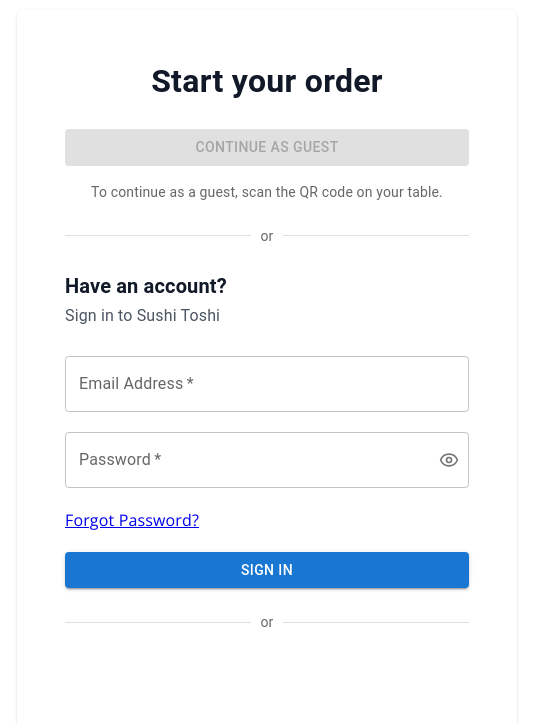
Test case: LoginForm › Form Submission › shows an error when the response has no access token
Type "test@example.com" into the field labelled "Email Address *" at x=267, y=384, box [65, 356, 469, 412]
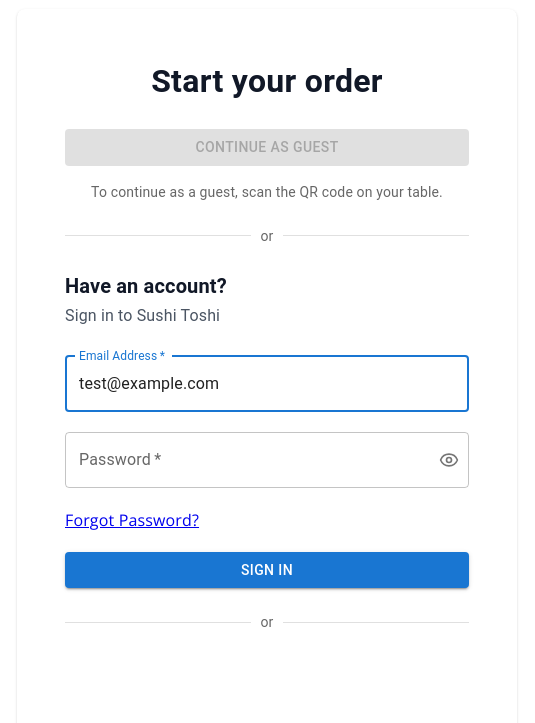
Type "password123" into the password field labelled "Password *" at x=244, y=460, box [65, 432, 423, 488]
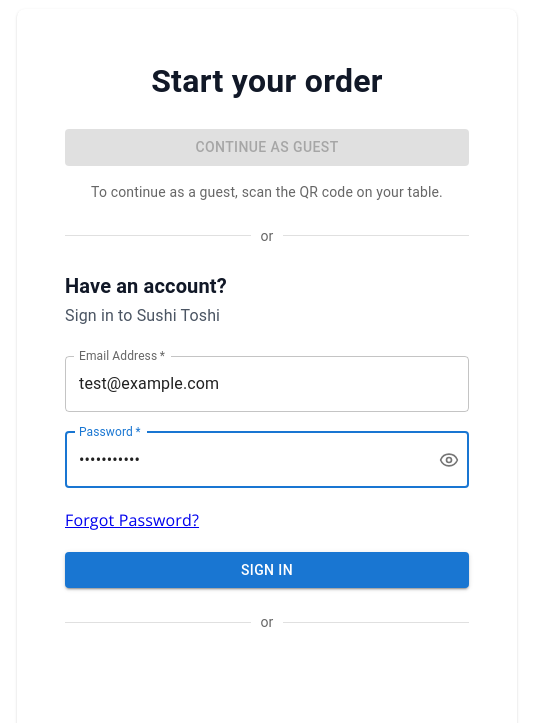
Click the button "Sign In" at x=267, y=570, box [65, 552, 469, 588]
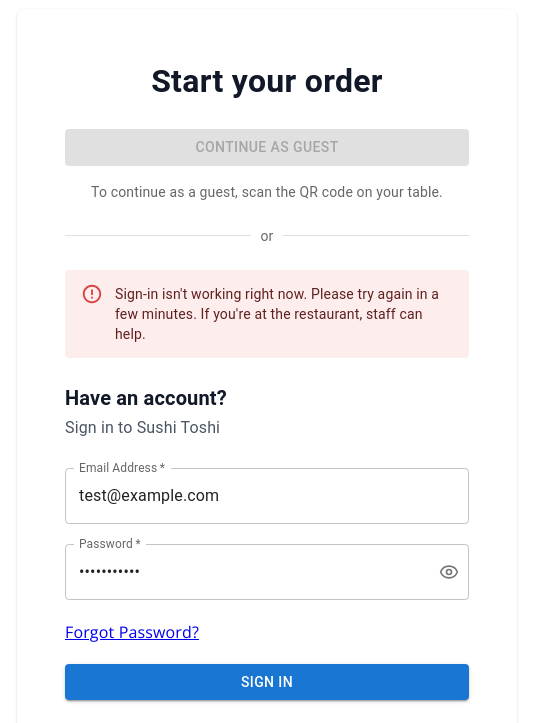
Now the text "Sign-in isn't working right now" is shown, box [115, 286, 439, 342]
